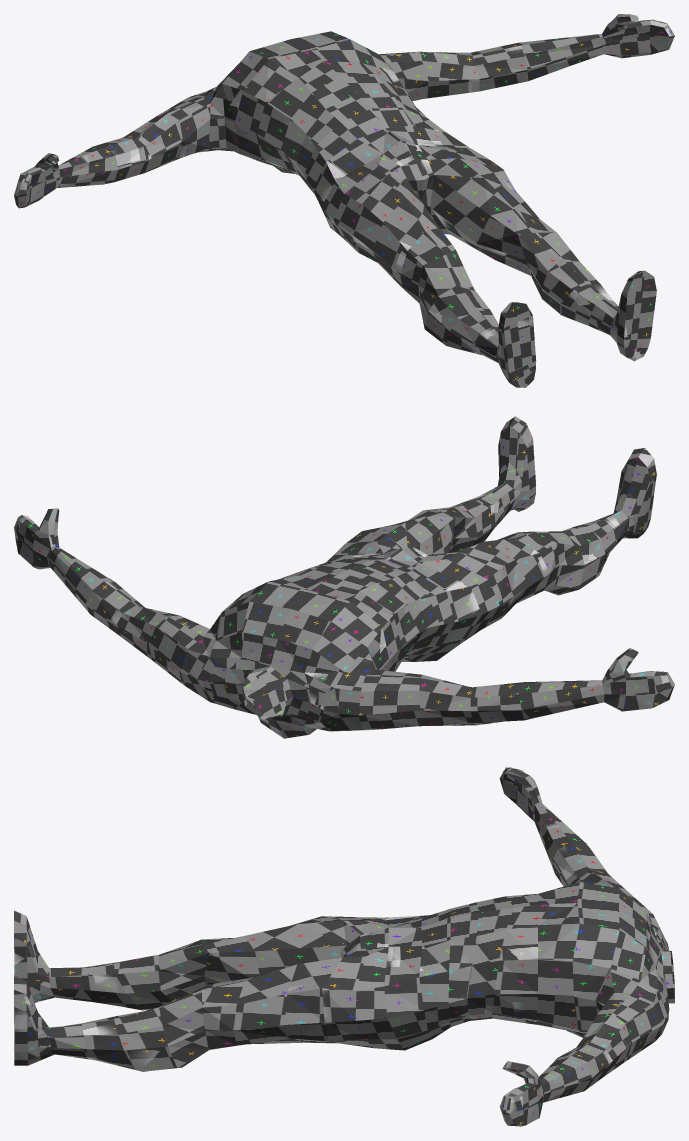
Rendered from men.dae.
3 views of the same model, one above another, from view 1: azimuth 30°, elevation 25°; view 2: azimuth 150°, elevation 25°; view 3: azimuth 270°, elevation 25° (orthographic). The views are drawn at different scales.
Visible parts, largest first — view 1: men; view 2: men; view 3: men.
Boxes of the visible parts, box(x1,y1,x2,y2) form: men: box(14, 14, 674, 387); men: box(14, 416, 674, 738); men: box(14, 767, 674, 1126).
Size of the model in its own units: 2.17 by 1.81 by 0.4176.
1 material, 1 textured.
